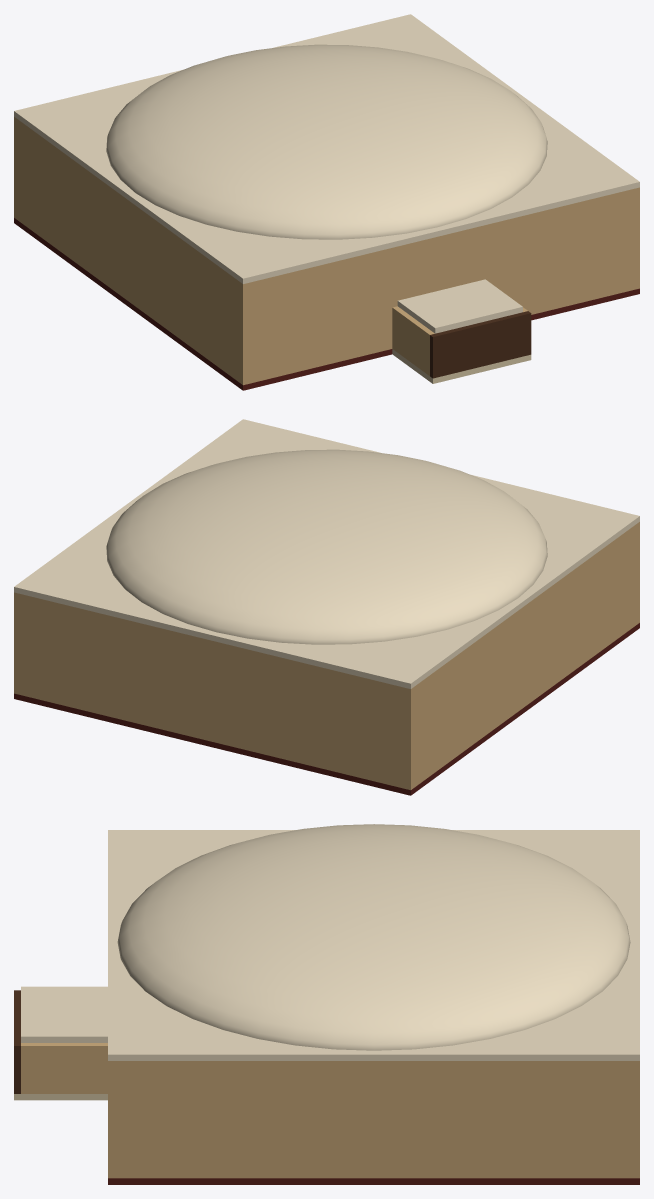
Rendered from hall_254.glb.
3 renders of one model, top to bottom at view 1: azimuth 30°, elevation 25°; view 2: azimuth 150°, elevation 25°; view 3: azimuth 270°, elevation 25°, orthographic. The views are drawn at different scales.
Visible parts, largest first — view 1: hall_254 ceiling, hall_254 wall, hall_254 wood, hall_254 carpet, hall_254 floor; view 2: hall_254 ceiling, hall_254 wall, hall_254 carpet; view 3: hall_254 ceiling, hall_254 wall, hall_254 carpet, hall_254 wood, hall_254 floor.
Part boxes in pixels (box(x1,y1,x2,y2)): hall_254 ceiling: box(14, 14, 639, 333); hall_254 wall: box(14, 117, 639, 385); hall_254 wood: box(430, 311, 531, 378); hall_254 carpet: box(14, 218, 639, 390); hall_254 floor: box(392, 349, 531, 383); hall_254 ceiling: box(14, 419, 639, 688); hall_254 wall: box(14, 522, 639, 790); hall_254 carpet: box(14, 623, 639, 795); hall_254 ceiling: box(21, 824, 639, 1060); hall_254 wall: box(21, 1043, 639, 1178); hall_254 carpet: box(108, 1178, 639, 1184); hall_254 wood: box(14, 990, 20, 1093); hall_254 floor: box(14, 1094, 107, 1100).
Size of what is drawn, in the model's own units: 45.2 by 16.9 by 53.2.
